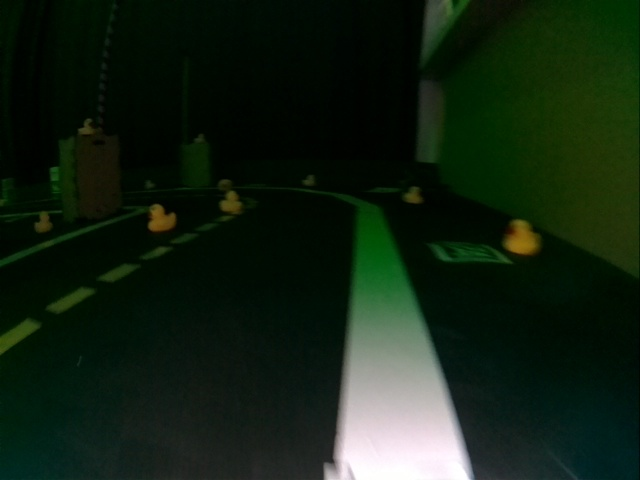Duckie: (505, 222, 542, 254), (148, 204, 177, 230), (219, 191, 243, 213), (34, 212, 53, 230), (405, 187, 422, 202), (78, 120, 95, 135), (302, 174, 314, 186), (195, 134, 204, 143), (146, 180, 155, 187)
QR code: (430, 240, 509, 262)
